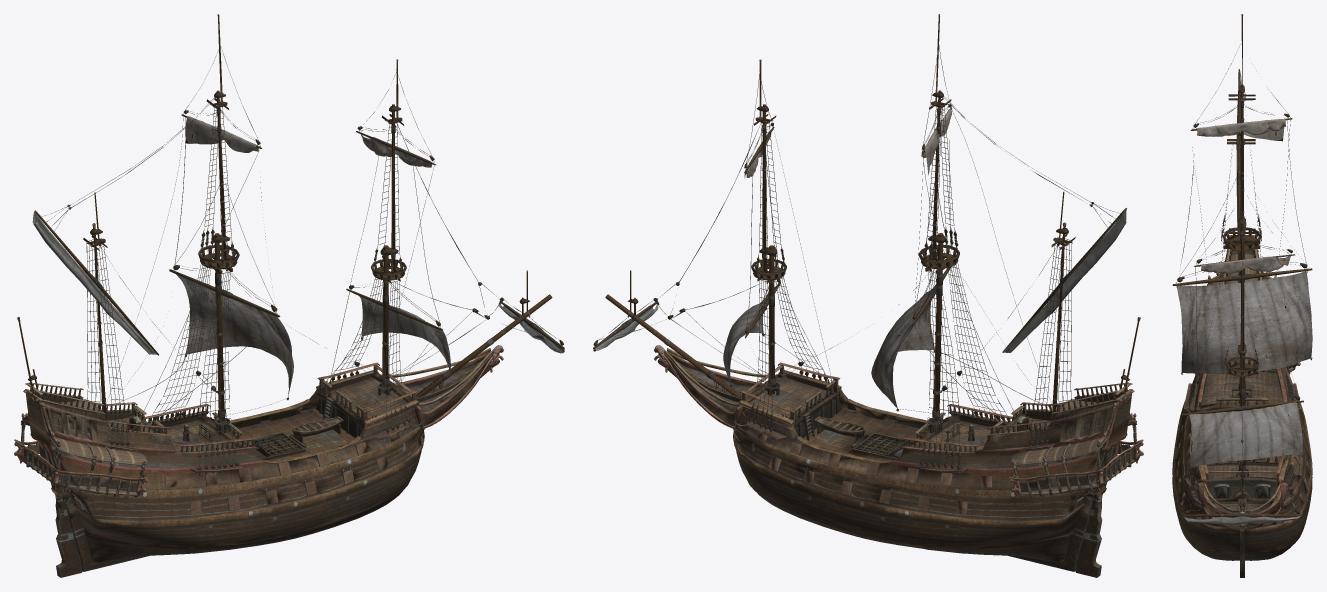
Rendered from ship_large.glb.
The picture shows the model from 3 angles, left to right: view 1: azimuth 30°, elevation 25°; view 2: azimuth 150°, elevation 25°; view 3: azimuth 270°, elevation 25°; orthographic projection. The views are drawn at different scales.
Visible parts, largest first — view 1: dutch_ship_large_01_hull, dutch_ship_large_01_rigging, dutch_ship_large_01_sails; view 2: dutch_ship_large_01_hull, dutch_ship_large_01_rigging, dutch_ship_large_01_sails; view 3: dutch_ship_large_01_sails, dutch_ship_large_01_hull, dutch_ship_large_01_rigging.
Boxes of the visible parts, box(x1,y1,x2,y2) form: dutch_ship_large_01_hull: box(14, 345, 503, 577); dutch_ship_large_01_rigging: box(17, 14, 564, 481); dutch_ship_large_01_sails: box(176, 116, 450, 396); dutch_ship_large_01_hull: box(654, 345, 1143, 577); dutch_ship_large_01_rigging: box(593, 14, 1140, 479); dutch_ship_large_01_sails: box(723, 109, 951, 408); dutch_ship_large_01_sails: box(1177, 119, 1312, 467); dutch_ship_large_01_hull: box(1172, 235, 1312, 577); dutch_ship_large_01_rigging: box(1172, 14, 1312, 524).
Bounding box in the file's own units: 34.25 × 32.07 × 8.39.
Materials: 3 (3 with a texture image).
